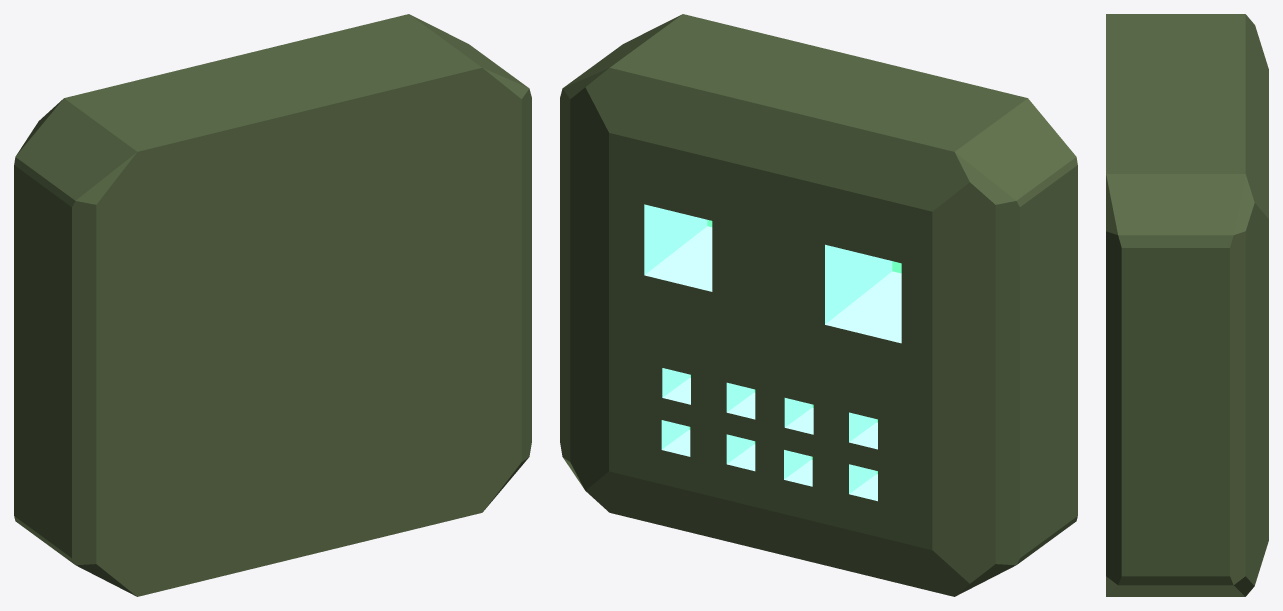
File: sleepShooter.fbx
3 views of the same model, side by side, from view 1: azimuth 30°, elevation 25°; view 2: azimuth 150°, elevation 25°; view 3: azimuth 270°, elevation 25° (orthographic). The views are drawn at different scales.
Visible parts, largest first — view 1: Cube.002; view 2: Cube.002; view 3: Cube.002.
Part boxes in pixels (x1=…): Cube.002: x1=14, y1=14, x2=531, y2=596; Cube.002: x1=560, y1=14, x2=1077, y2=596; Cube.002: x1=1106, y1=14, x2=1268, y2=596.
Size of the model in its own units: 216 by 200 by 69.75.
